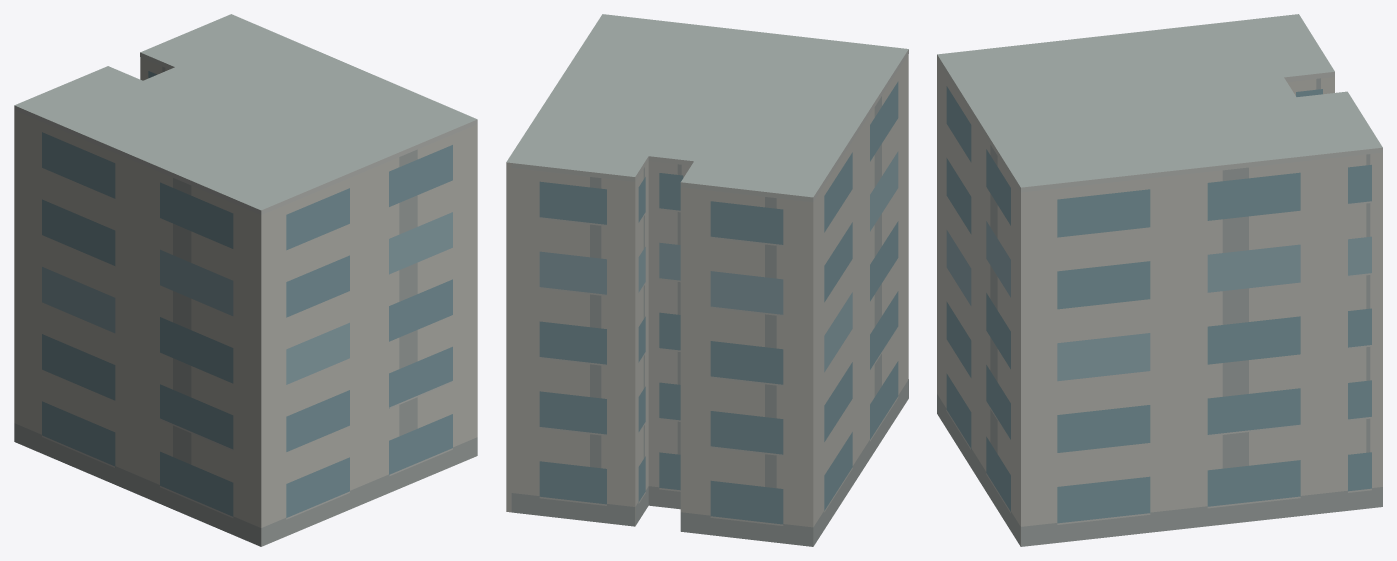
File: survey-upis-32500473.glb
3 renders of one model, left to right at view 1: azimuth 30°, elevation 25°; view 2: azimuth 150°, elevation 25°; view 3: azimuth 270°, elevation 25°, orthographic. The views are drawn at different scales.
Parts seen in each view (by area): view 1: survey-upis-32500473.tmp; view 2: survey-upis-32500473.tmp; view 3: survey-upis-32500473.tmp.
Part boxes in pixels (box(x1,y1,x2,y2)): survey-upis-32500473.tmp: box(14, 14, 477, 546); survey-upis-32500473.tmp: box(506, 14, 908, 546); survey-upis-32500473.tmp: box(937, 14, 1382, 546).
Size of the model in its own units: 17.94 by 17.3 by 19.46.
